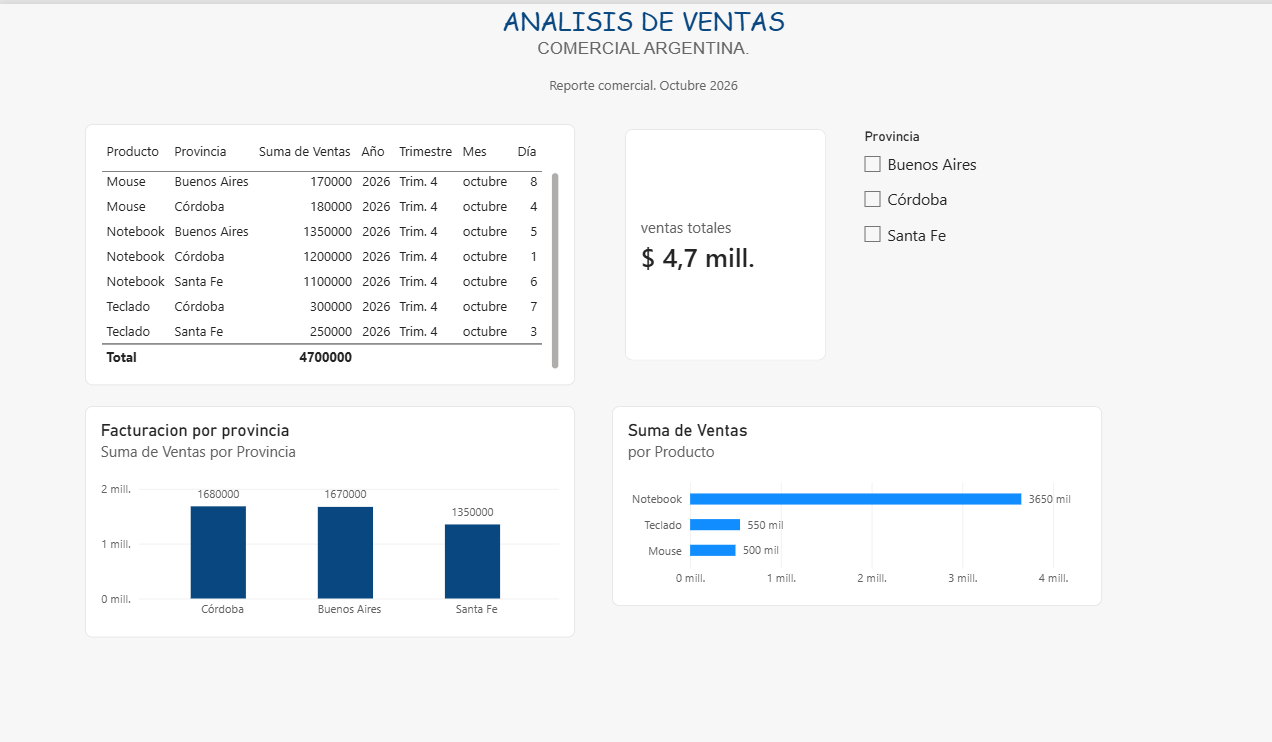

This screenshot's page, from the dashboard's own definition file:
{"tool":"powerbi","page":{"name":"Página 1","canvas":[1920,1080],"ordinal":0},"visuals":[{"type":"tableEx","fields":{"Values":["Hoja 1.Producto","Hoja 1.Provincia","Sum(Hoja 1.Ventas)","Hoja 1.Fecha.Variation.Jerarquía de fechas.Año","Hoja 1.Fecha.Variation.Jerarquía de fechas.Trimestre","Hoja 1.Fecha.Variation.Jerarquía de fechas.Mes","Hoja 1.Fecha.Variation.Jerarquía de fechas.Día"]},"box":[39.5,144.9,526.8,280.5],"z":0},{"type":"clusteredColumnChart","fields":{"Y":["Hoja 1.ventas totales"]},"box":[40,539.5,527,281],"z":2},{"type":"cardVisual","fields":{"Data":["Hoja 1.ventas totales","Hoja 1.ventas totales"]},"box":[733.6,160.7,527,249],"z":3},{"type":"clusteredColumnChart","title":"Facturacion por provincia","fields":{"Category":["Hoja 1.Provincia"],"Y":["Sum(Hoja 1.Ventas)"]},"box":[615.1,540,527,249],"z":4},{"type":"textbox","box":[40,831,527,249],"z":5},{"type":"clusteredBarChart","fields":{"Category":["Hoja 1.Producto"],"Y":["Sum(Hoja 1.Ventas)"]},"box":[1291.4,496.8,527,215],"z":6},{"type":"slicer","fields":{"Values":["Hoja 1.Provincia"]},"box":[1291.4,243,527,215],"z":7}]}

Visuals, with their boxes on the page's 1920x1080 design canvas (x1, y1, x2, y2). These are canvas units, not pixel positions in the 1272x742 screenshot, which may show the page scaled, cropped or inside an application window:
tableEx - Hoja 1.Producto x Hoja 1.Provincia: box=[40, 145, 566, 425]
clusteredColumnChart - Hoja 1.ventas totales: box=[40, 540, 567, 820]
cardVisual - Hoja 1.ventas totales x Hoja 1.ventas totales: box=[734, 161, 1261, 410]
"Facturacion por provincia" clusteredColumnChart: box=[615, 540, 1142, 789]
textbox: box=[40, 831, 567, 1080]
clusteredBarChart - Hoja 1.Producto x Sum(Hoja 1.Ventas): box=[1291, 497, 1818, 712]
slicer - Hoja 1.Provincia: box=[1291, 243, 1818, 458]
